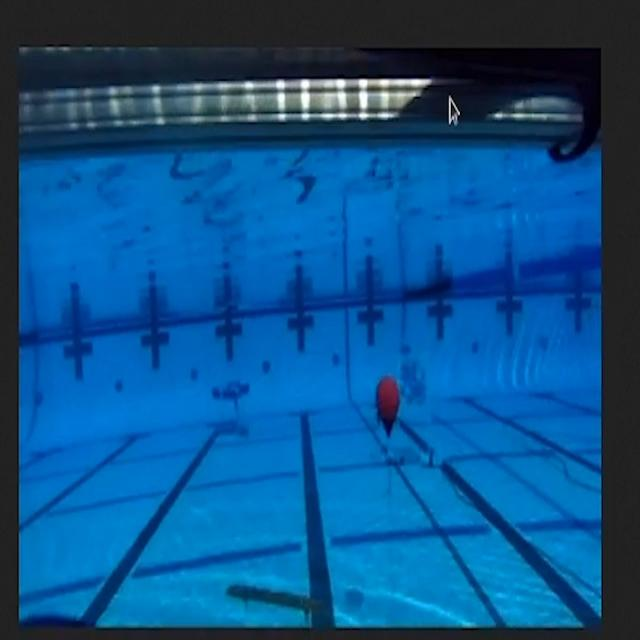Buoy: (374, 367, 403, 439)
